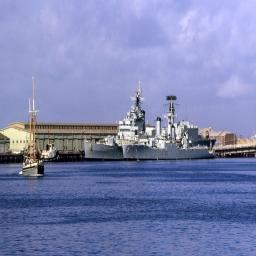Fragata: (122, 96, 219, 163)
